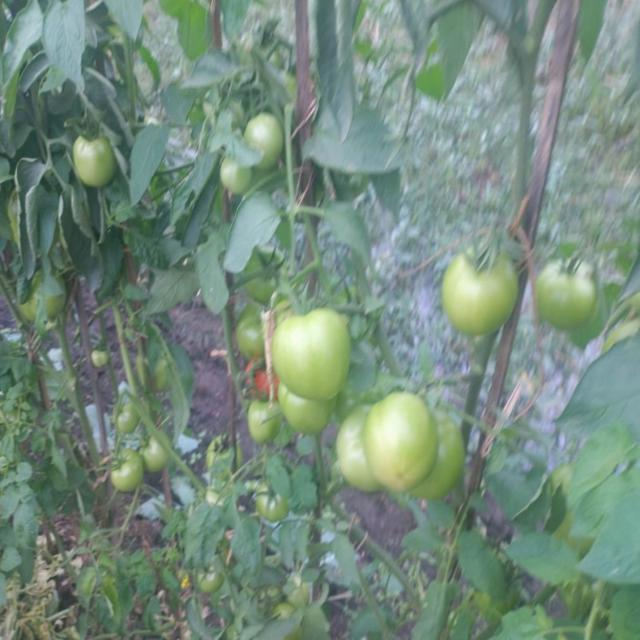tomato: (362, 396, 435, 493), (272, 312, 346, 403), (445, 253, 519, 342), (534, 260, 597, 328), (420, 413, 462, 496), (337, 413, 381, 490), (280, 387, 332, 440), (74, 131, 113, 190), (249, 108, 283, 168), (249, 248, 284, 306), (236, 309, 272, 360), (248, 400, 279, 444), (112, 449, 144, 491), (256, 485, 288, 521), (220, 165, 253, 196), (199, 563, 223, 596), (144, 442, 172, 470), (118, 407, 142, 438), (206, 440, 233, 464), (273, 600, 301, 619), (22, 301, 44, 324), (94, 350, 111, 369)
